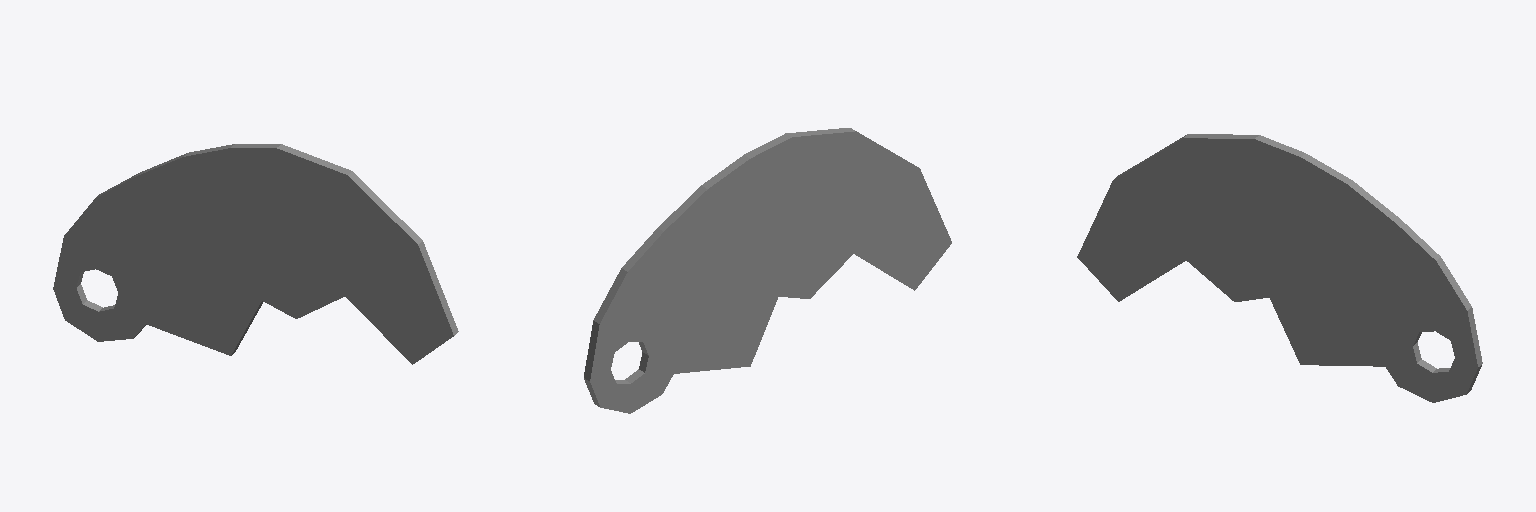
File: babyface_Pinza_Izq_Sup.obj
3 renders of one model, left to right at view 1: azimuth 90°, elevation 25°; view 2: azimuth 150°, elevation 25°; view 3: azimuth 270°, elevation 25°, orthographic.
Visible parts, largest first — view 1: BF_pinzaL_arriba; view 2: BF_pinzaL_arriba; view 3: BF_pinzaL_arriba.
Boxes of the visible parts, <box> form: BF_pinzaL_arriba: <box>53,144,458,364</box>; BF_pinzaL_arriba: <box>584,128,951,413</box>; BF_pinzaL_arriba: <box>1077,134,1482,402</box>.
Bounding box in the file's own units: 0.8349 × 1.07 × 1.72.